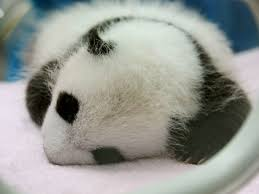panda: (14, 11, 242, 173)
